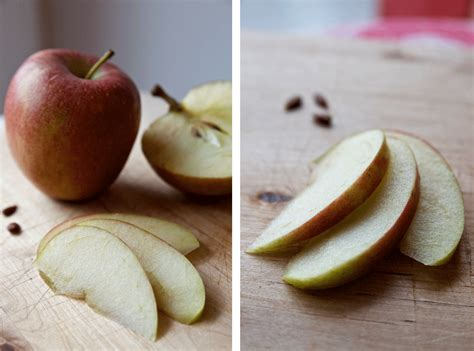apple: (2, 46, 146, 208)
